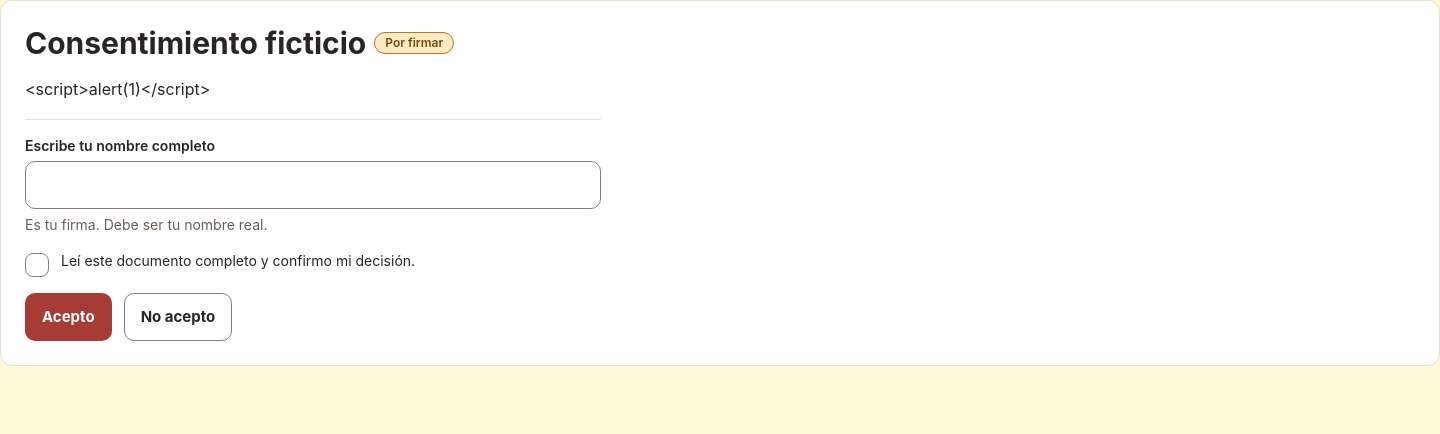
Test: SignConsentList › requires the typed name and the checkbox, then sends bodyHash as textHash
Click the button "Acepto".
click(68, 318)  # box [25,294,112,342]
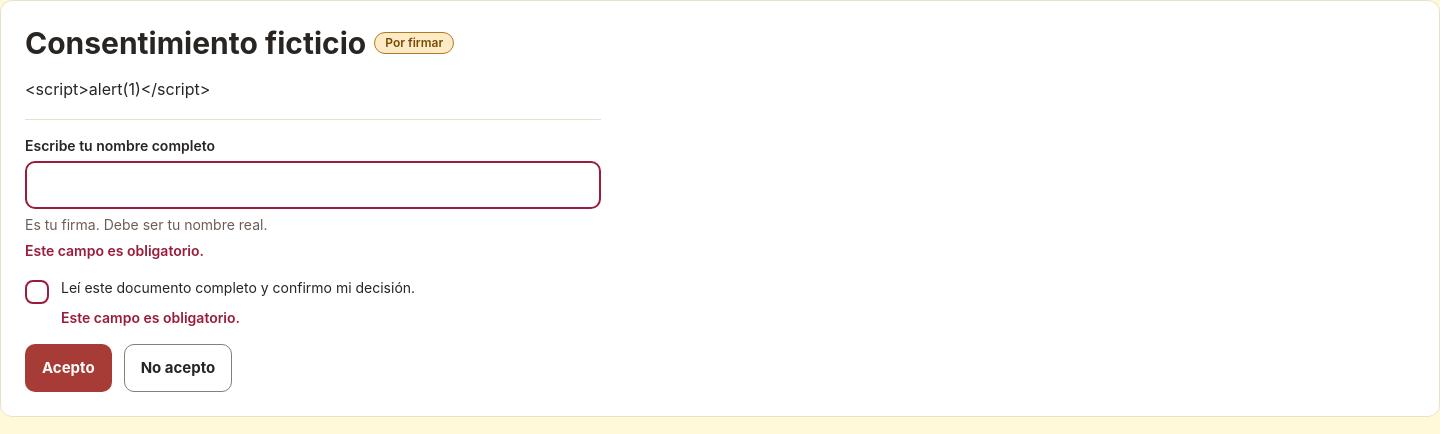
Result: the text "Este campo es obligatorio." is shown 2 times at [25,242,204,260]; [61,309,240,326]
Type "Ana Ficticia" into the field labelled "Escribe tu nombre completo".
click(313, 185); type("Ana Ficticia")  # box [25,161,601,209]
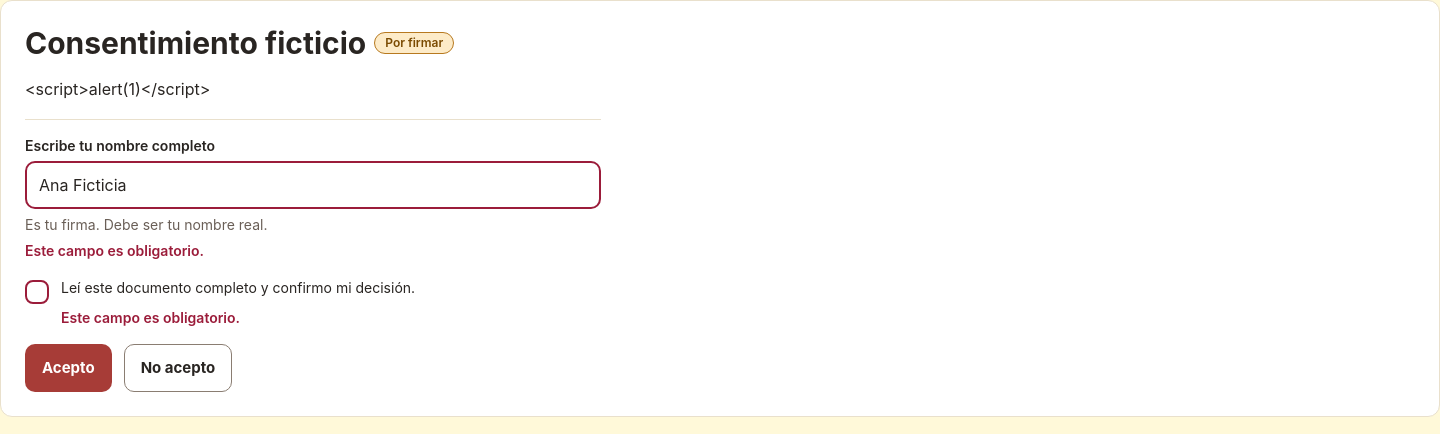
Click the checkbox.
click(37, 292)  # box [25,280,49,304]
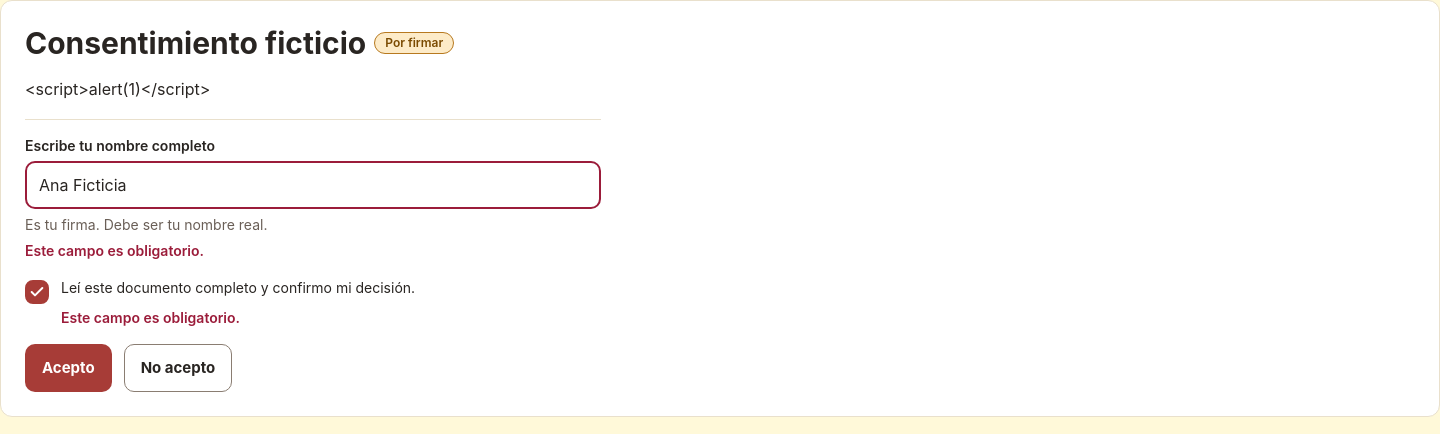
Click the button "Acepto".
click(68, 368)  # box [25,344,112,392]
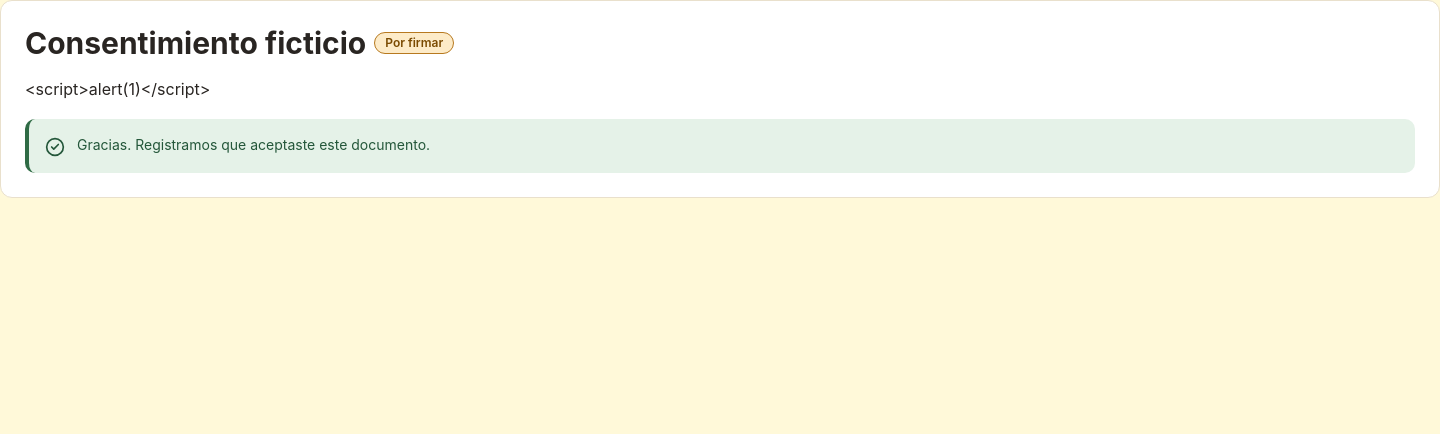
Result: the text "Gracias. Registramos que aceptaste este documento." is shown at [77,135,430,157]
